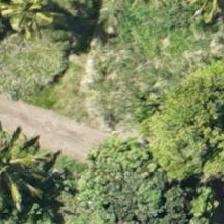coconut_tree: (0, 123, 47, 213)
